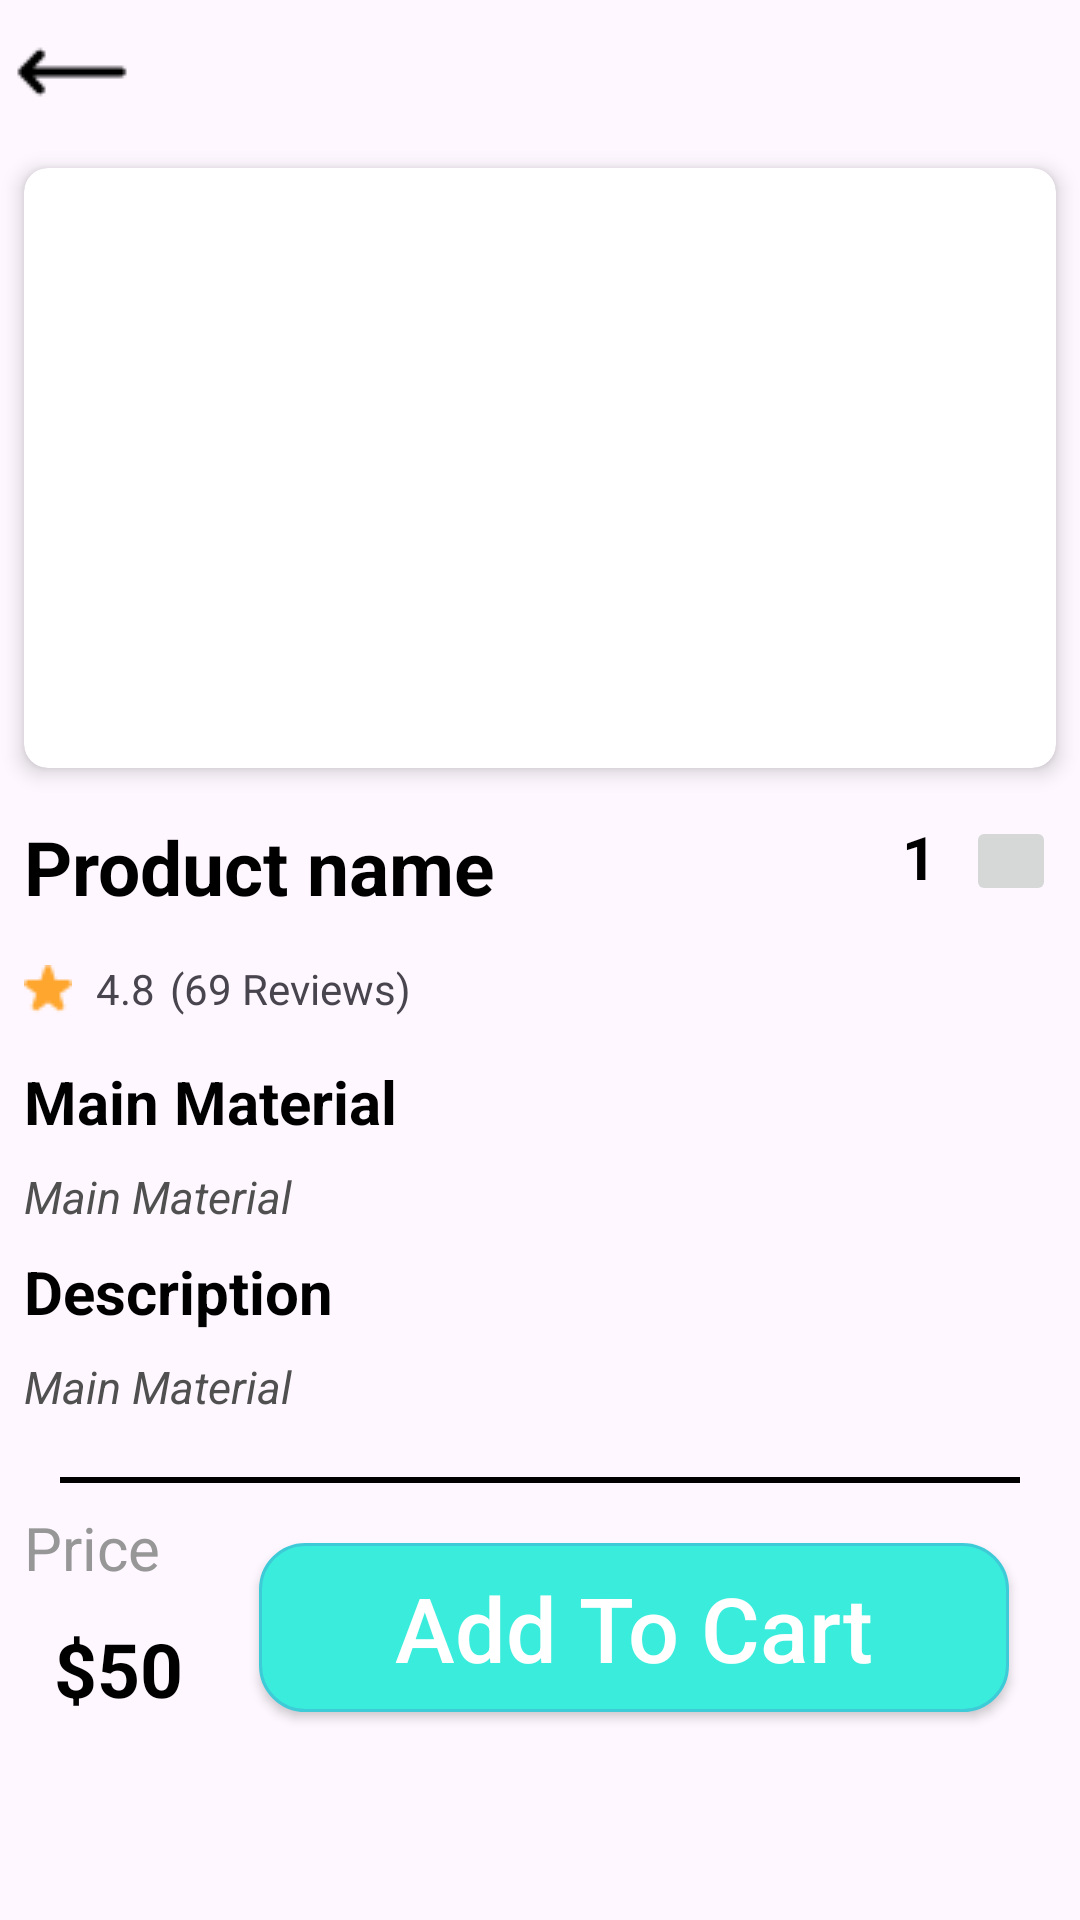

Point at icon controls on the screen. Image size 1080w x 1920h, points as (x=x, y=y).
return: (x=72, y=72)
smaller star: (x=48, y=988)
